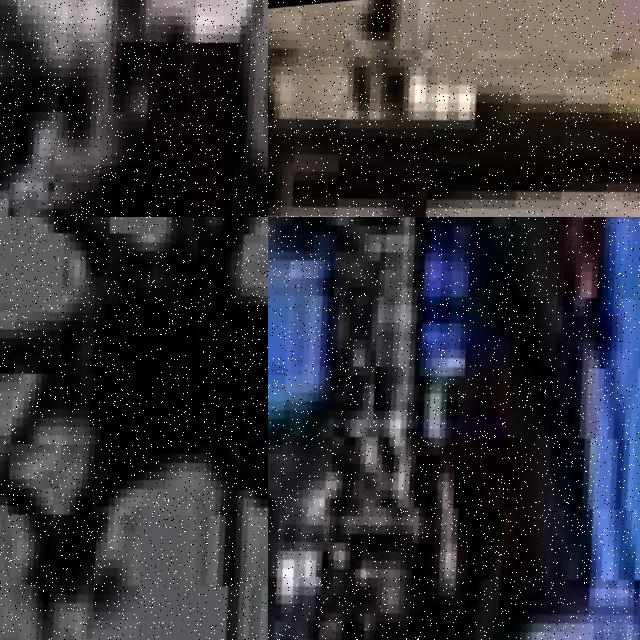drone: (268, 217, 640, 640), (0, 217, 268, 640), (268, 0, 640, 217), (0, 0, 268, 217)
